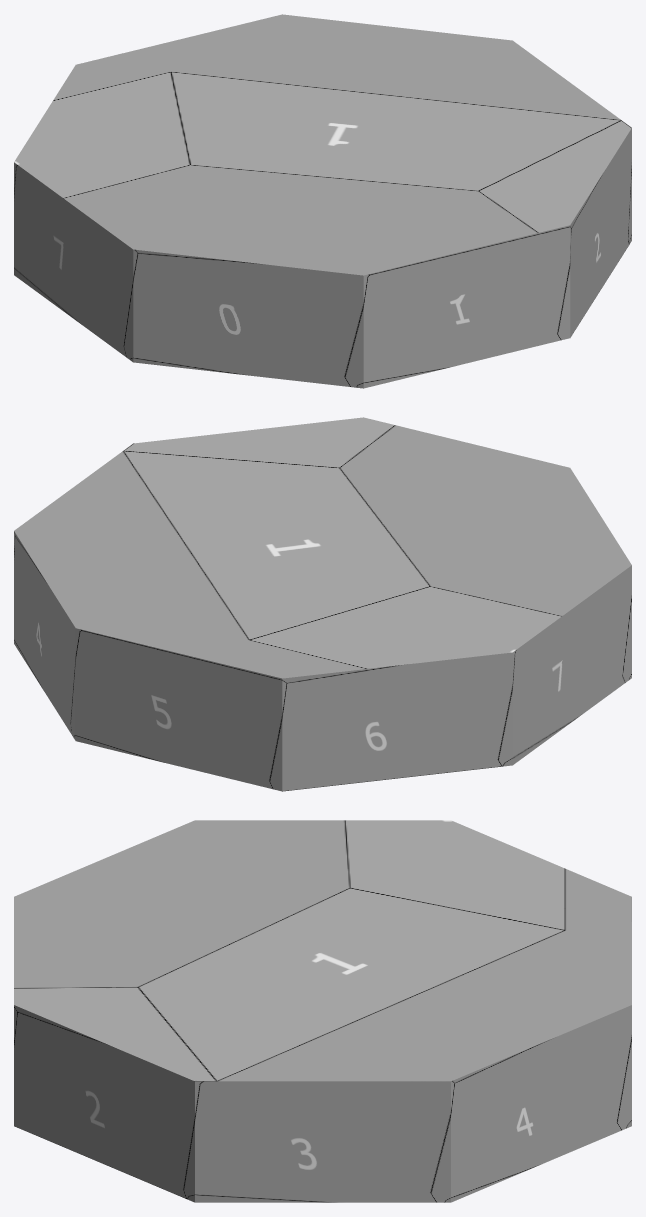
The model's file is slot_rotor.gltf.
3 renders of one model, top to bottom at view 1: azimuth 30°, elevation 25°; view 2: azimuth 150°, elevation 25°; view 3: azimuth 270°, elevation 25°, orthographic. The views are drawn at different scales.
Parts seen in each view (by area): view 1: rotor; view 2: rotor; view 3: rotor.
Part boxes in pixels (x1,y1,x2,y2): rotor: (14,14,631,388); rotor: (14,417,631,791); rotor: (14,820,631,1202).
Bounding box in the file's own units: 1.85 × 0.4 × 1.85.
1 material, 1 textured.
